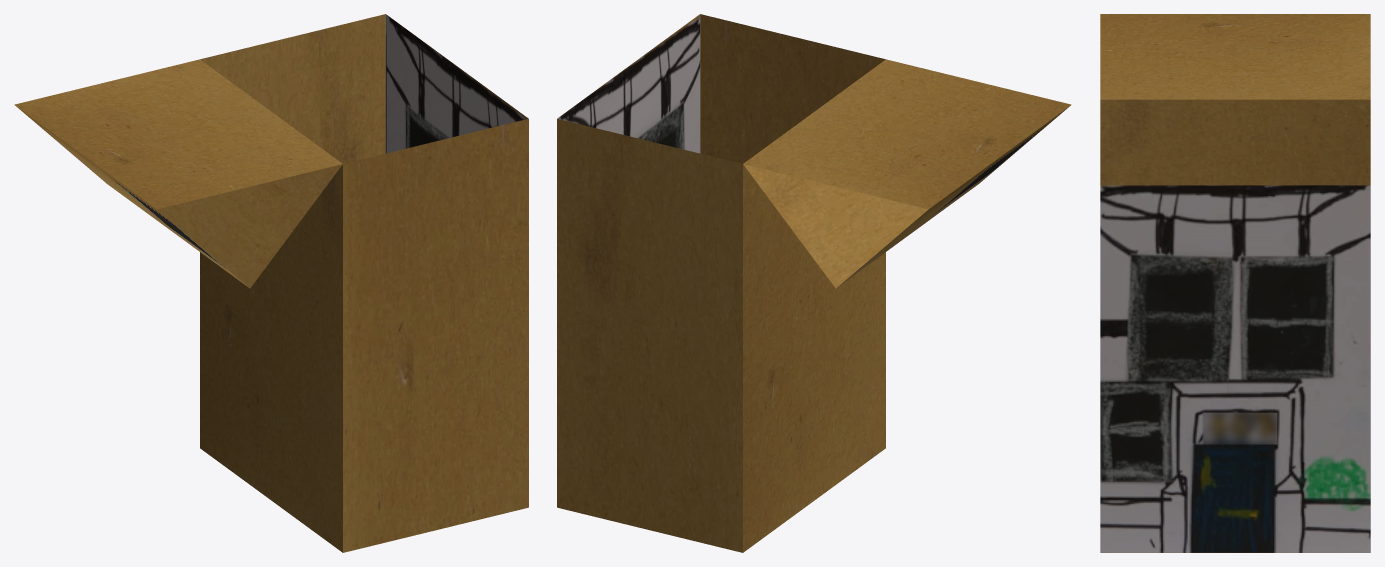
3 views of the same model, side by side, from view 1: azimuth 30°, elevation 25°; view 2: azimuth 150°, elevation 25°; view 3: azimuth 270°, elevation 25° (orthographic). The views are drawn at different scales.
Visible parts, largest first — view 1: Cube, Cube.002, Cube.003, Cube.001; view 2: Cube, Cube.002, Cube.003, Cube.001; view 3: Cube, Cube.003, Cube.002.
Part boxes in pixels (x1,y1,x2,y2): Cube: (200,118,528,552); Cube.002: (14,59,342,288); Cube.003: (200,14,528,163); Cube.001: (15,105,248,287); Cube: (557,118,885,552); Cube.002: (743,59,1071,288); Cube.003: (557,14,885,163); Cube.001: (837,105,1070,287); Cube: (1100,185,1370,552); Cube.003: (1100,99,1370,185); Cube.002: (1100,14,1370,99).
Bounding box in the file's own units: 15 × 15 × 10.
1 material, 1 textured.
